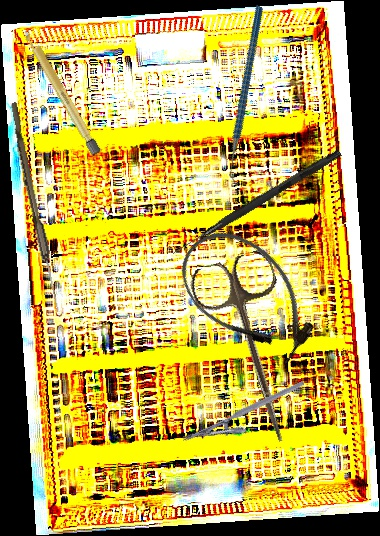Cannula: (162, 211, 334, 380)
Chopper: (174, 4, 322, 188)
Hook Surgical: (171, 147, 342, 259)
Iris Scissors: (186, 247, 325, 453)
Needle Holder: (181, 379, 313, 459)
Scalpel Handle: (20, 25, 103, 158)
Surgical Spoon: (5, 102, 65, 313)
